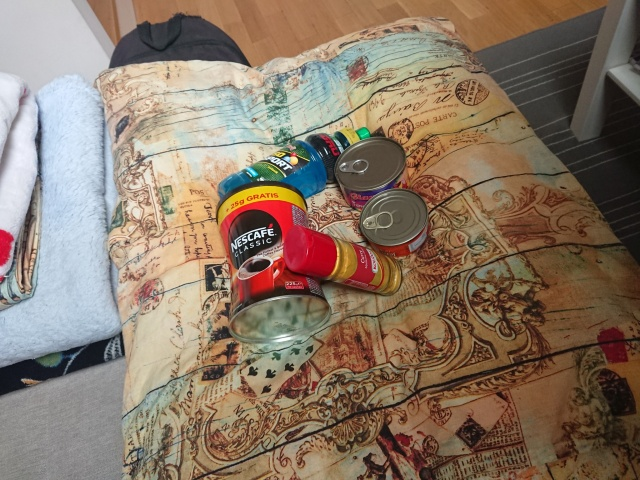Gavrilovic Pork Liver Pate 100g: (357, 185, 433, 260)
Giana Tuna Salad Mexico 185g: (332, 135, 414, 215)
Kotanyi Curry Spices Mix 70g: (281, 221, 406, 299)
Nescafe Classic 225g: (211, 177, 334, 347)
Vindi Iso Sport Forest Strawberries 500mL: (215, 125, 373, 216)
